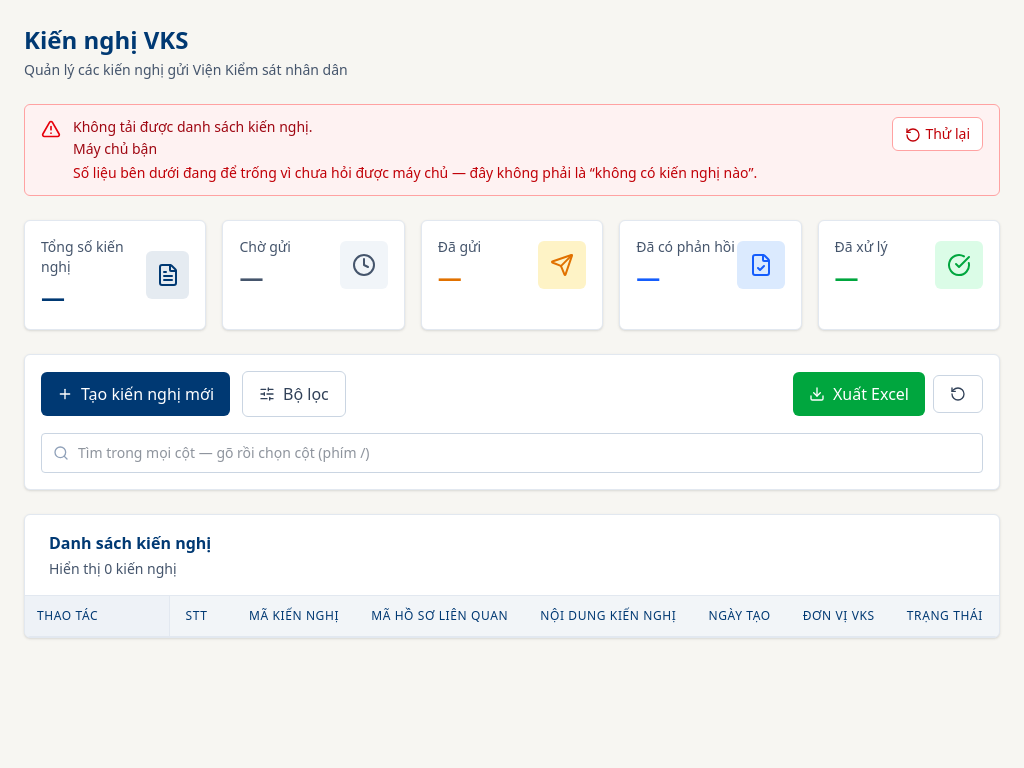
Scenario: Tải danh sách kiến nghị hỏng › thử lại thành công thì khối lỗi biến mất và số liệu hiện ra
expect the message with test id "proposal-load-error" is shown: met, box [24, 104, 1000, 196]
Step 1. Click the button with test id "proposal-retry" → point(938, 134), box [892, 117, 983, 151]
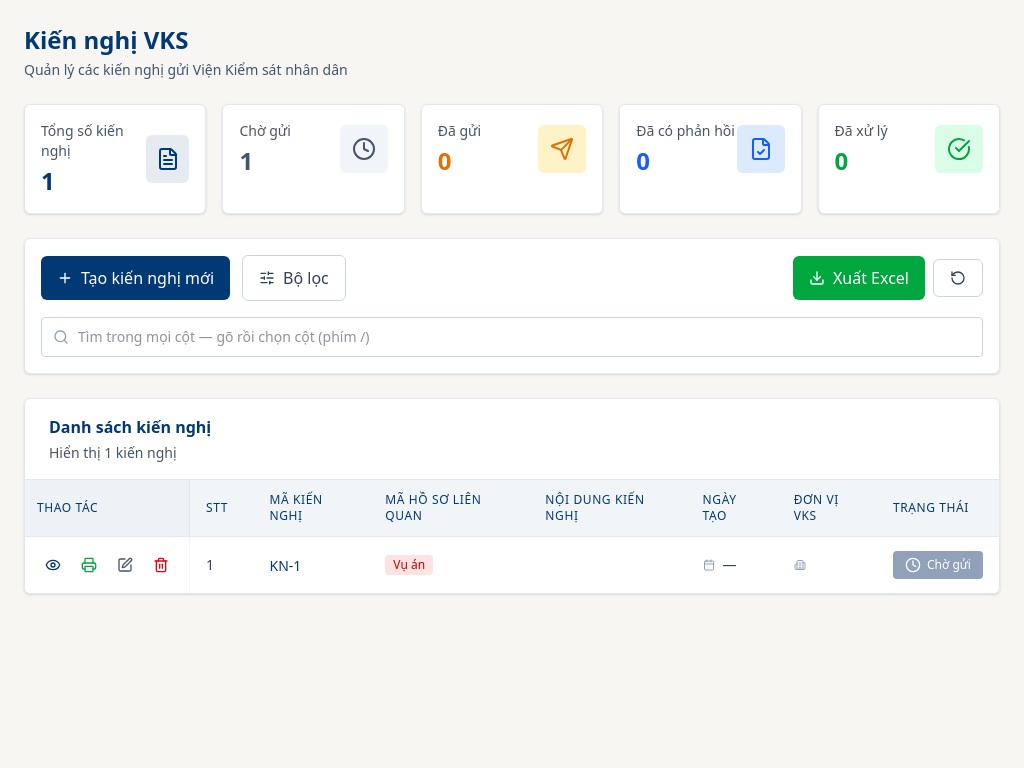
expect the message with test id "proposal-load-error" is gone: met
expect the text with test id "proposal-stat" below "Tổng số kiến nghị" reads "1": met, box [41, 164, 55, 197]
